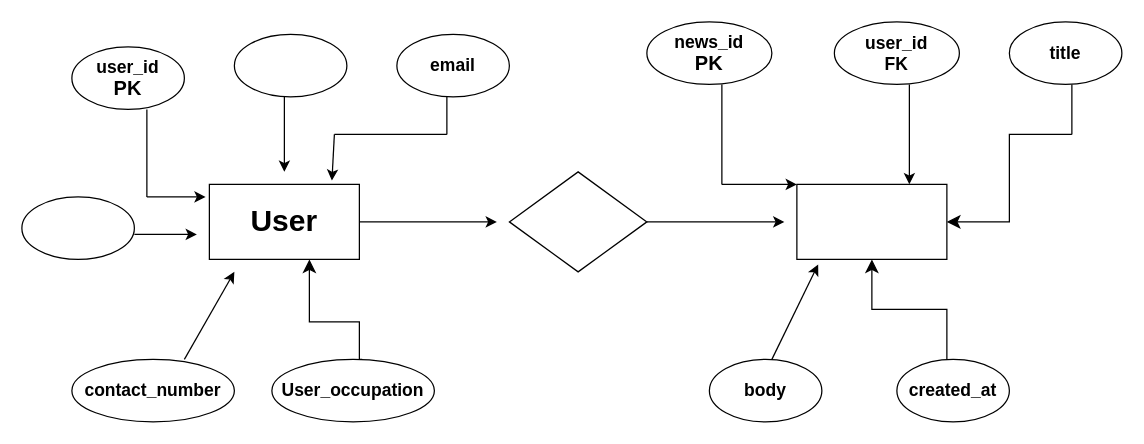
This 1144x444 diagram has some shape labels left out. Here are the shapes that lost their labels. From the top down, the centre of each, then its label:
At (290,65): "usrname".
At (77,227): "age".
At (577,221): "Posts".
At (871,221): "News".
